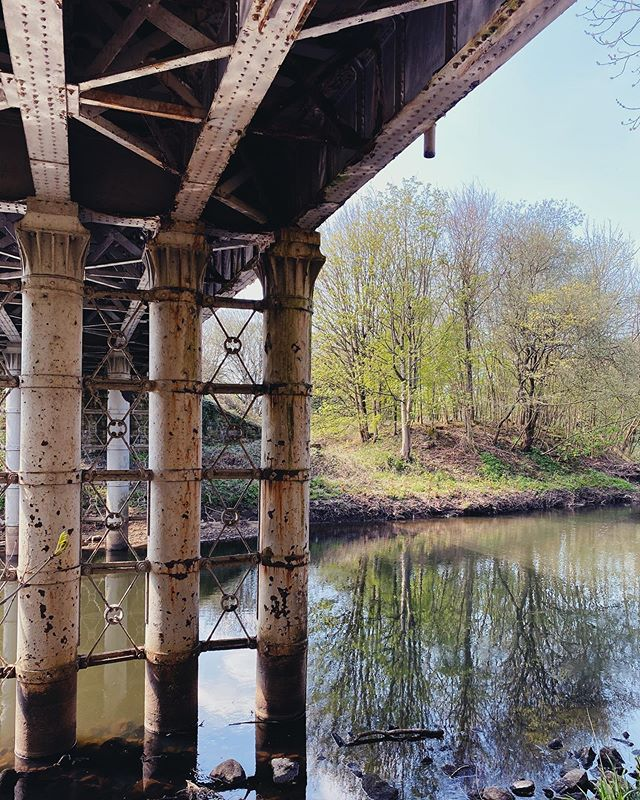bridge: (6, 1, 579, 305)
collumn: (140, 222, 227, 784), (8, 209, 95, 771), (243, 225, 322, 766)
river: (1, 502, 635, 800)
vegetation: (337, 214, 640, 493)
